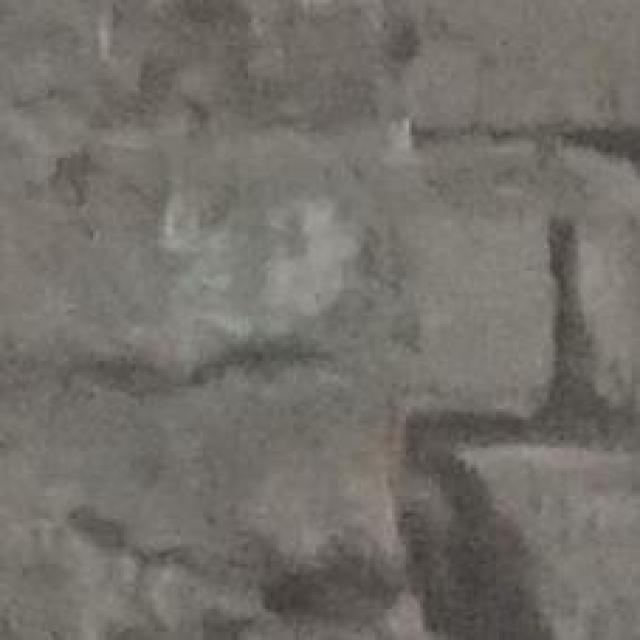Crack: (98, 50, 640, 640)
